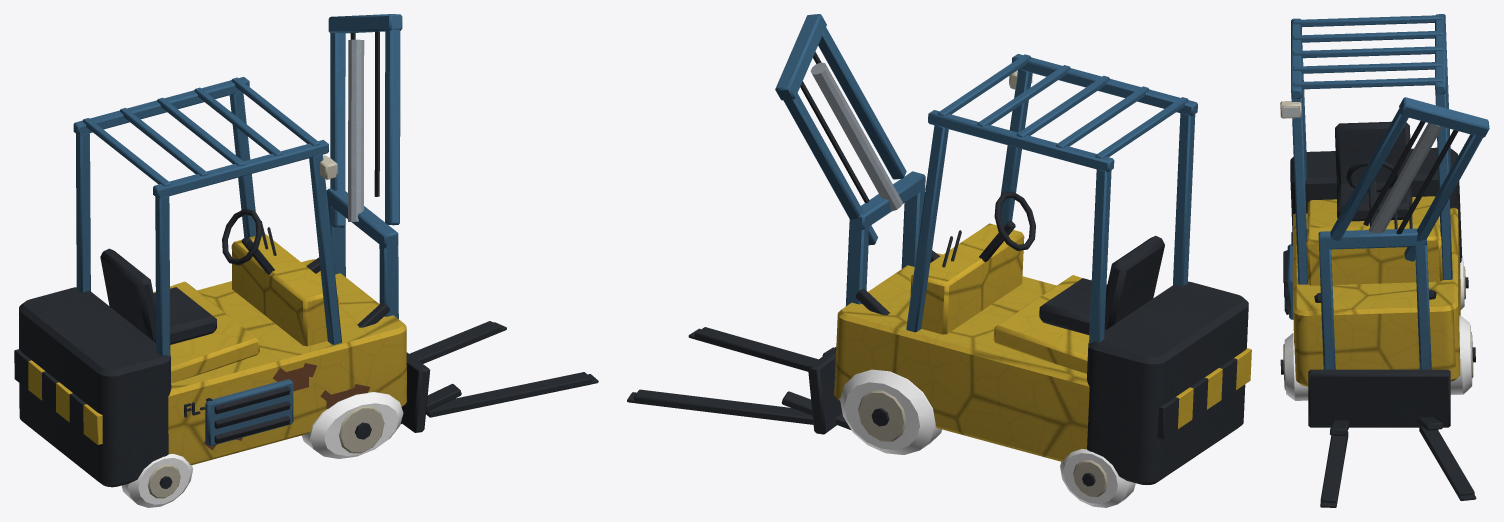
File: forklift_wreck.glb
3 renders of one model, left to right at view 1: azimuth 30°, elevation 25°; view 2: azimuth 150°, elevation 25°; view 3: azimuth 270°, elevation 25°, orthographic. The views are drawn at different scales.
Visible parts, largest first — view 1: forklift_wreck; view 2: forklift_wreck; view 3: forklift_wreck.
Boxes of the visible parts, x1,y1,x2,y2 form: forklift_wreck: (14,14,598,507); forklift_wreck: (627,14,1251,507); forklift_wreck: (1280,14,1489,507).
Size of the model in its own units: 3.59 by 2.54 by 1.39.
13 materials, 13 textured.
